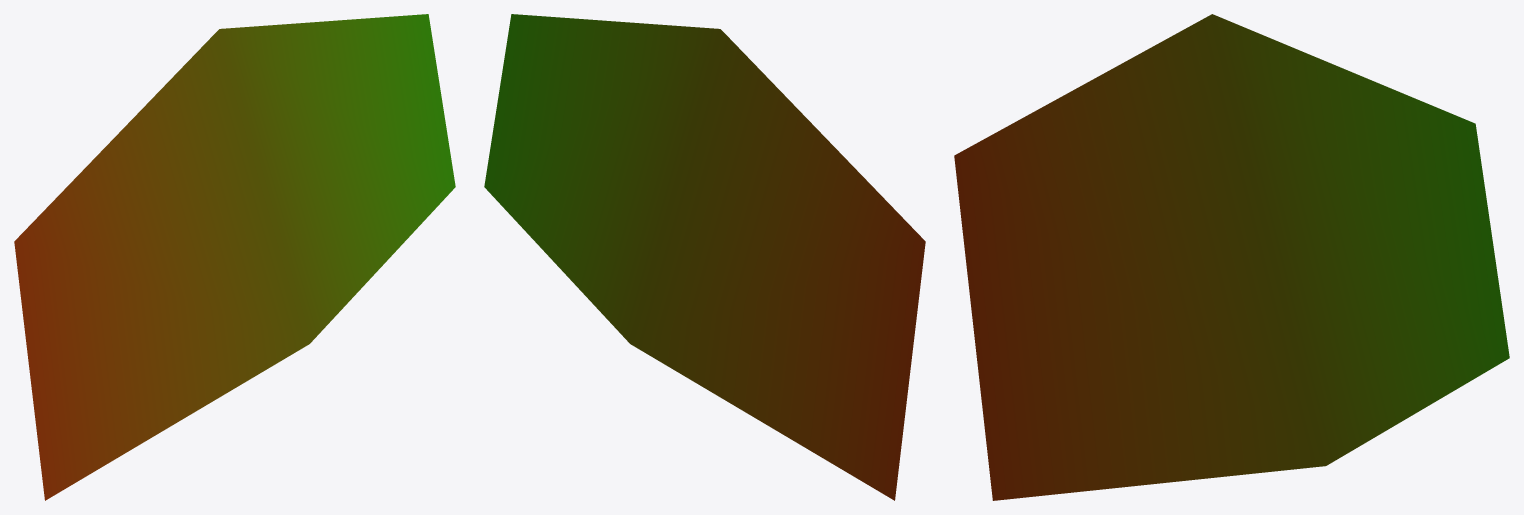
The model's file is Fern_LOD3_Var5_sbslY.fbx.
3 renders of one model, left to right at view 1: azimuth 30°, elevation 25°; view 2: azimuth 150°, elevation 25°; view 3: azimuth 330°, elevation 25°, orthographic. The views are drawn at different scales.
Visible parts, largest first — view 1: _db77_Var5_LOD3; view 2: _db77_Var5_LOD3; view 3: _db77_Var5_LOD3.
Boxes of the visible parts, x1=… form: _db77_Var5_LOD3: x1=14, y1=14, x2=455, y2=500; _db77_Var5_LOD3: x1=484, y1=14, x2=925, y2=500; _db77_Var5_LOD3: x1=954, y1=14, x2=1509, y2=500.
Size of the model in its own units: 106 by 98.81 by 0.000164.
